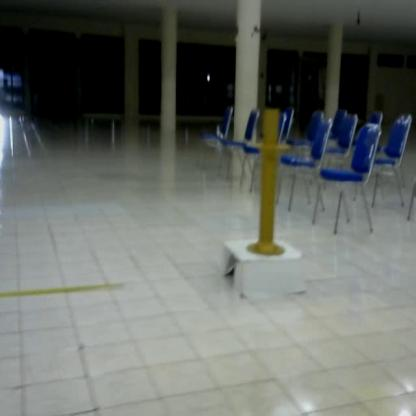pole: (247, 105, 293, 260)
